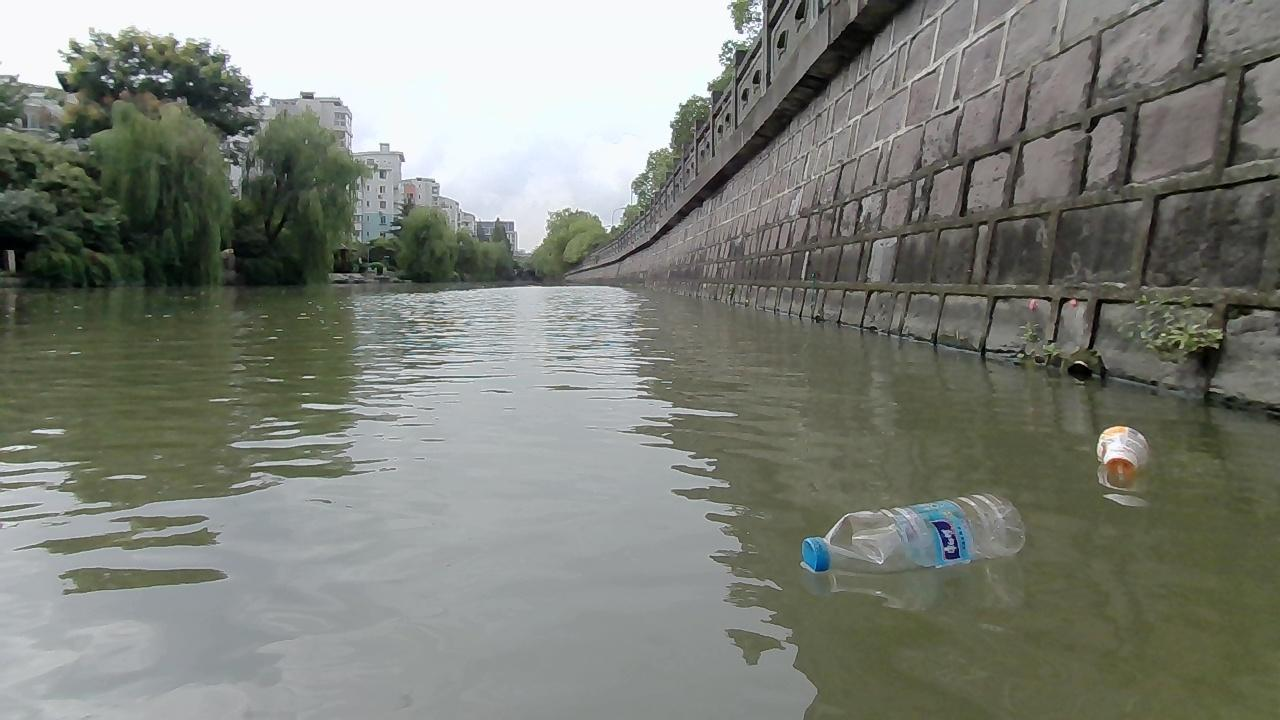bottle: (798, 488, 1027, 574), (1094, 422, 1149, 476)
